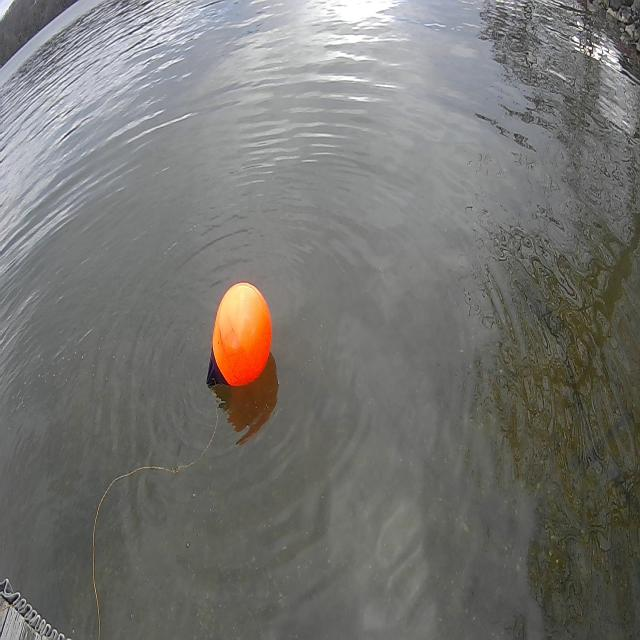Buoy: (210, 278, 274, 392)
